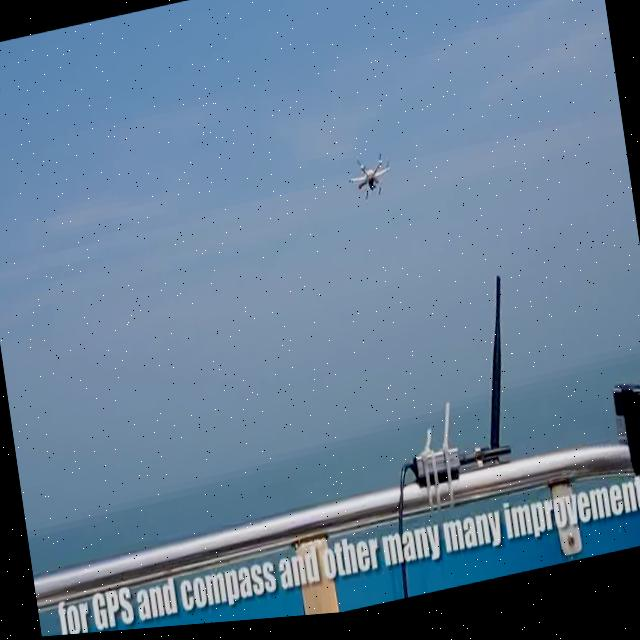drone: (344, 151, 396, 207)
